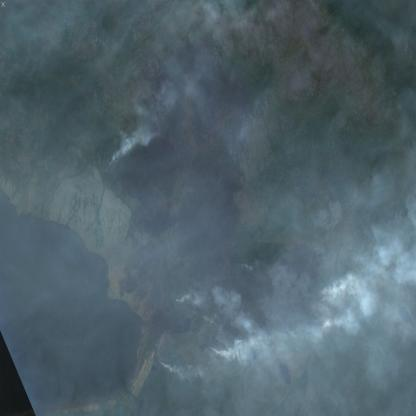fire: (162, 283, 338, 372), (98, 134, 126, 176)
